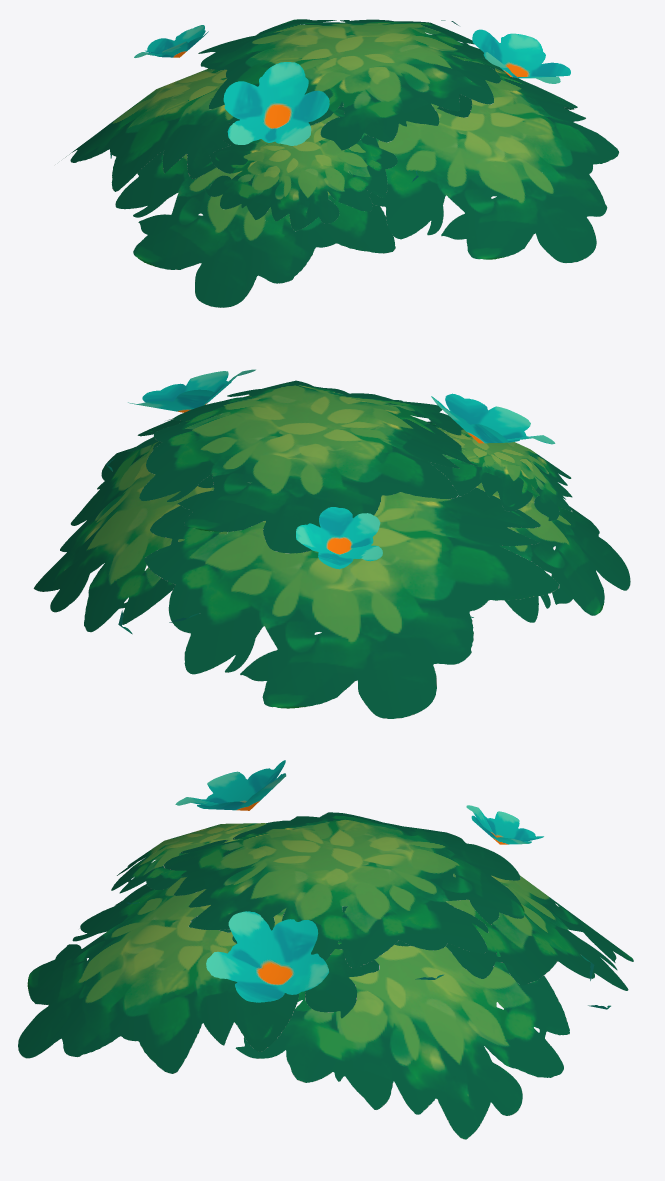
File: SM_Bush3.fbx
3 views of the same model, one above another, from view 1: azimuth 30°, elevation 25°; view 2: azimuth 150°, elevation 25°; view 3: azimuth 270°, elevation 25° (orthographic). The views are drawn at different scales.
Visible parts, largest first — view 1: Bush9; view 2: Bush9; view 3: Bush9.
Boxes of the visible parts, box(x1,y1,x2,y2) form: Bush9: box(65, 19, 619, 307); Bush9: box(33, 369, 630, 718); Bush9: box(18, 760, 633, 1139).
Bounding box in the file's own units: 221 × 87.65 × 219.
1 material, 1 textured.
